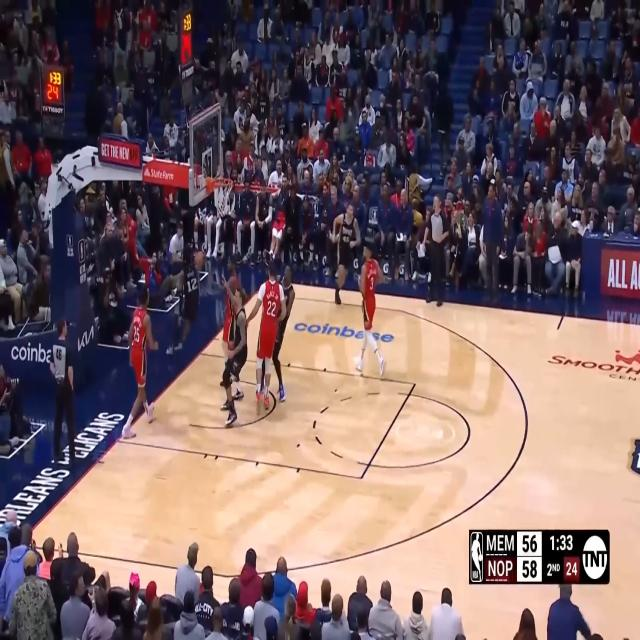Ball: (192, 249, 205, 271)
Clock: (40, 66, 64, 104), (180, 9, 193, 68)
Hoop: (212, 176, 234, 218)
Overlay: (469, 529, 610, 585)
Player: (244, 260, 286, 416), (120, 284, 158, 438), (256, 263, 295, 402), (165, 237, 209, 356), (216, 254, 250, 402), (352, 241, 386, 380), (220, 268, 248, 429), (332, 201, 360, 303)
Ref: (50, 316, 80, 471), (420, 192, 452, 308)
Scoreboard: (485, 530, 579, 584)
